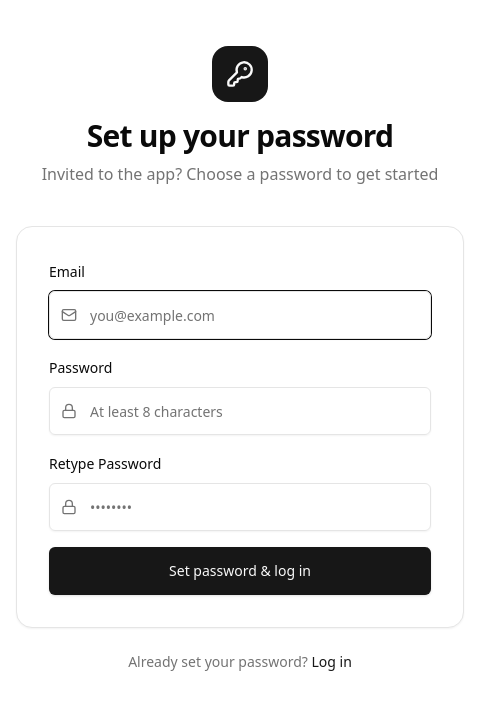
Test case: Set up your password (invited-user onboarding) › rejects passwords shorter than 8 characters
Type "newbie@example.com" into the field labelled "Email". click: (240, 315)
box: x1=49 y1=291 x2=431 y2=339
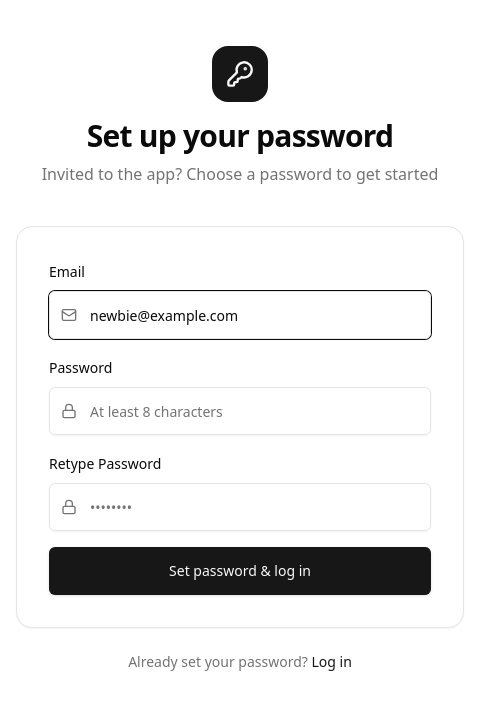
Type "short" into the password field labelled "Password". click: (240, 411)
box: x1=49 y1=387 x2=431 y2=435
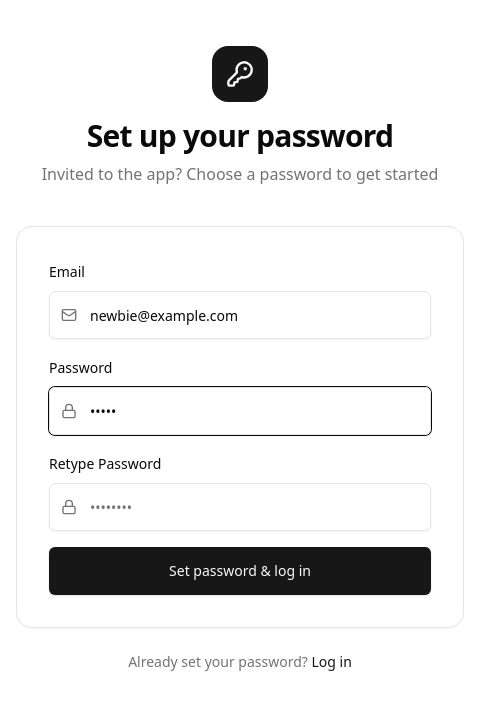
Type "short" into the password field labelled "Retype Password". click: (240, 507)
box: x1=49 y1=483 x2=431 y2=531
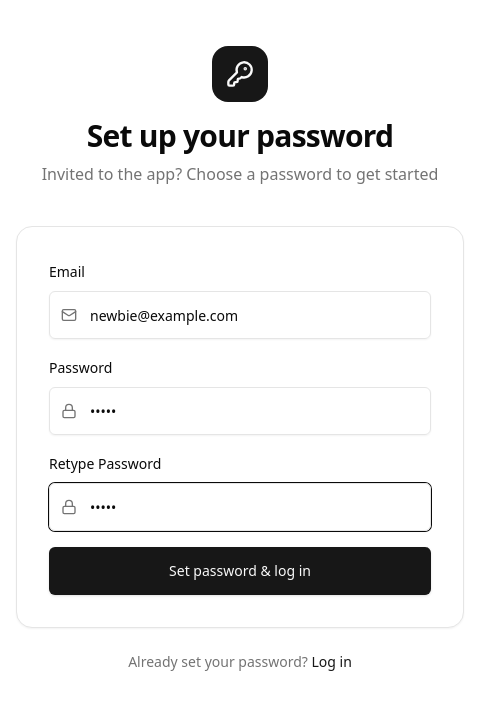
Click the button "Set password & log in". click: (240, 571)
box: x1=49 y1=547 x2=431 y2=595
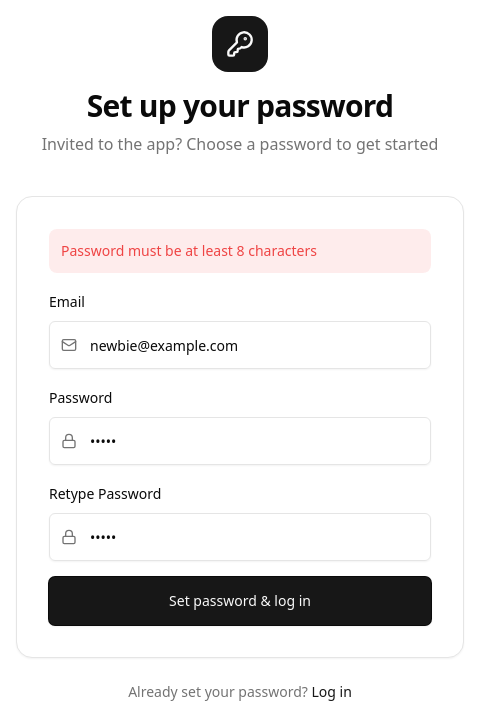
Now the text "Password must be at least 8 characters" is shown, box x1=49 y1=229 x2=431 y2=273
